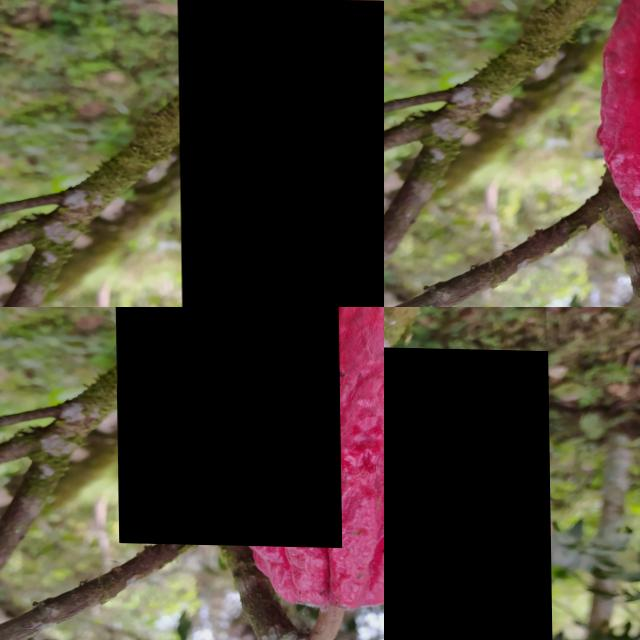Sana: (177, 0, 384, 307), (113, 307, 340, 546), (384, 343, 552, 640), (311, 307, 384, 571), (479, 118, 558, 265), (397, 175, 484, 307), (0, 424, 77, 551), (419, 144, 476, 205), (534, 163, 565, 239)
